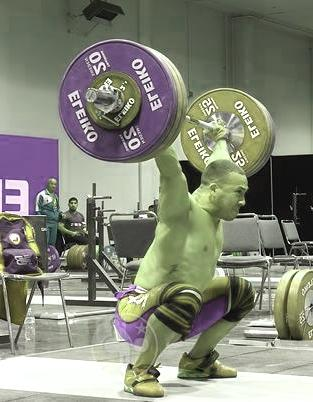Barbell: (82, 86, 97, 105)
